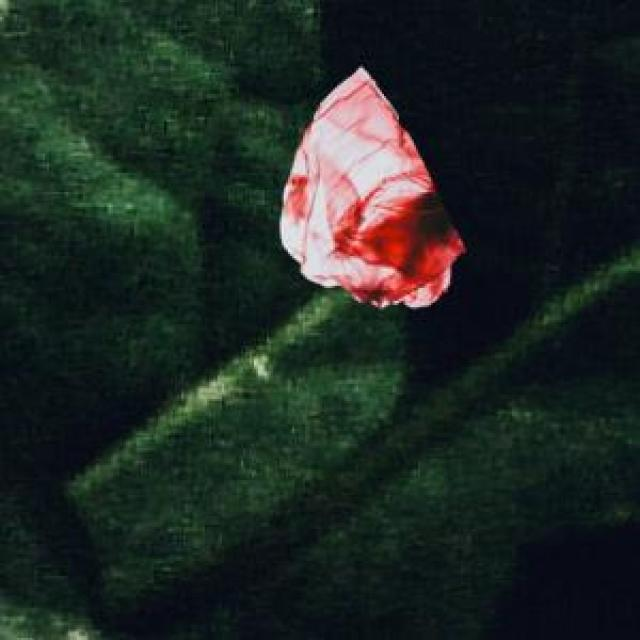plastic: (241, 44, 519, 352)
